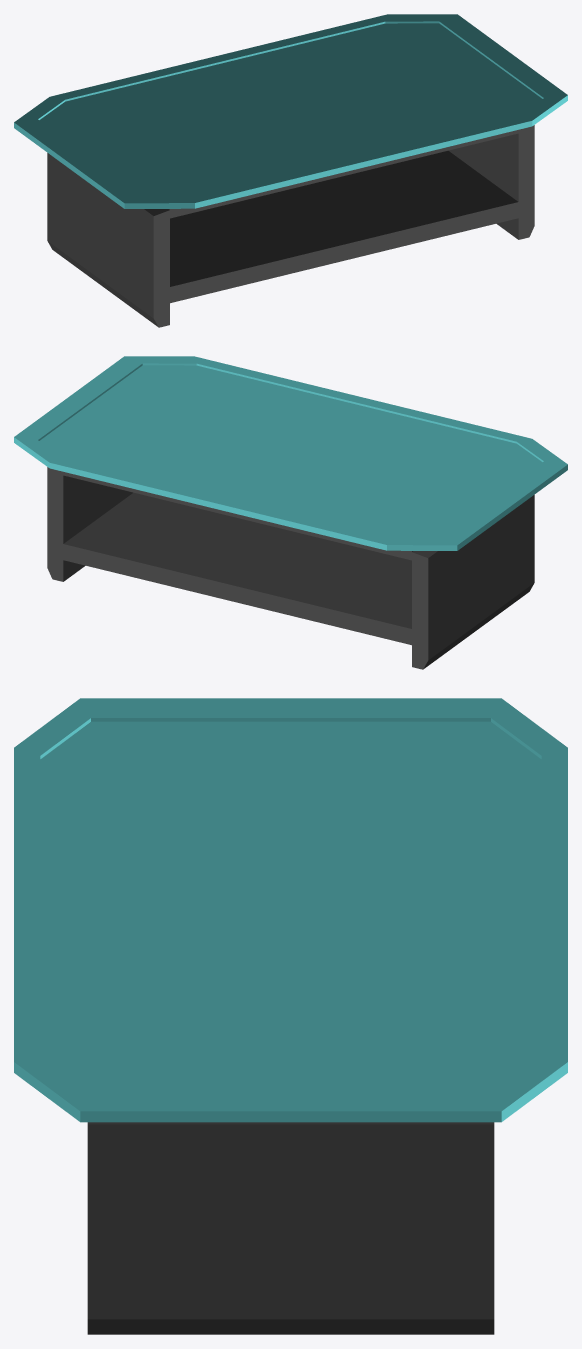
File: Table 6.fbx
The picture shows the model from 3 angles, top to bottom: view 1: azimuth 30°, elevation 25°; view 2: azimuth 150°, elevation 25°; view 3: azimuth 270°, elevation 25°; orthographic projection. The views are drawn at different scales.
Parts seen in each view (by area): view 1: Node 0; view 2: Node 0; view 3: Node 0.
Boxes of the visible parts, <box> form: Node 0: <box>14,14,567,327</box>; Node 0: <box>14,356,567,669</box>; Node 0: <box>14,698,567,1334</box>.
Size of the model in its own units: 1.53 by 0.7835 by 2.7.
